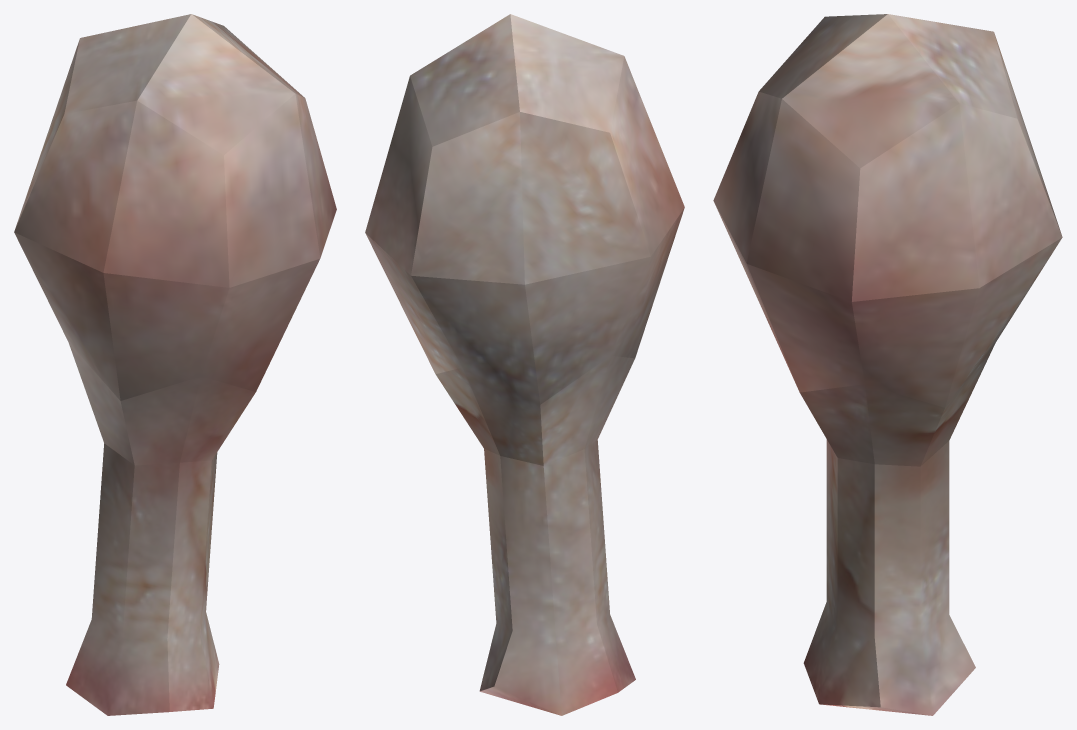
The model's file is RawChickenLeg.fbx.
3 views of the same model, side by side, from view 1: azimuth 30°, elevation 25°; view 2: azimuth 150°, elevation 25°; view 3: azimuth 270°, elevation 25° (orthographic). The views are drawn at different scales.
Parts seen in each view (by area): view 1: ChickenMeat; view 2: ChickenMeat; view 3: ChickenMeat.
Part boxes in pixels (x1=…): ChickenMeat: x1=14, y1=14, x2=336, y2=715; ChickenMeat: x1=365, y1=14, x2=684, y2=715; ChickenMeat: x1=713, y1=14, x2=1062, y2=715.
Size of the model in its own units: 1068 by 2409 by 1078.
